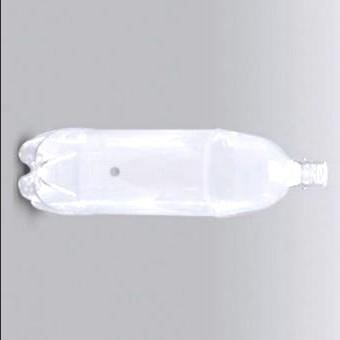bottle: (17, 126, 326, 214)
